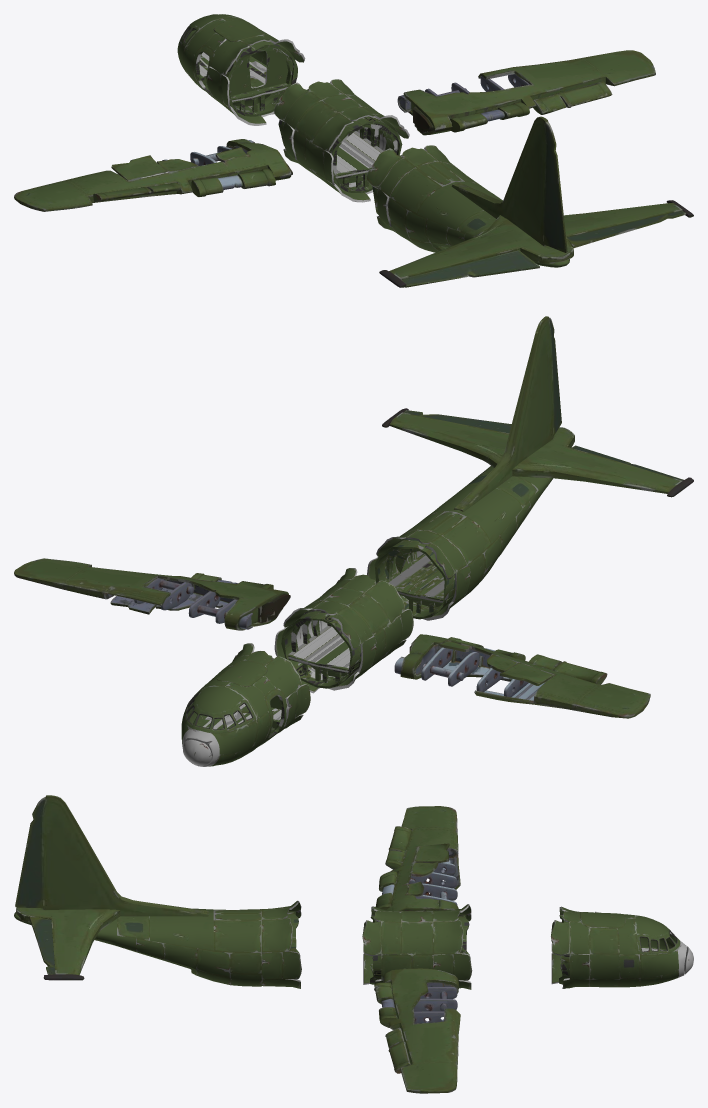
File: crashed_plane.glb
The picture shows the model from 3 angles, top to bottom: view 1: azimuth 30°, elevation 25°; view 2: azimuth 150°, elevation 25°; view 3: azimuth 270°, elevation 25°; orthographic projection. The views are drawn at different scales.
Parts seen in each view (by area): view 1: Object_7, Object_4, Object_5, Object_6; view 2: Object_7, Object_4, Object_5, Object_6; view 3: Object_7, Object_4, Object_6, Object_5.
Boxes of the visible parts, bbox=[...] form: Object_7: bbox=[366, 116, 693, 287]; Object_4: bbox=[14, 50, 655, 211]; Object_5: bbox=[274, 79, 409, 202]; Object_6: bbox=[177, 14, 305, 125]; Object_7: bbox=[367, 316, 693, 620]; Object_4: bbox=[14, 558, 650, 718]; Object_5: bbox=[274, 568, 413, 693]; Object_6: bbox=[181, 643, 310, 766]; Object_7: bbox=[14, 795, 301, 988]; Object_4: bbox=[374, 806, 460, 1093]; Object_6: bbox=[551, 906, 693, 988]; Object_5: bbox=[362, 904, 472, 989].
Bounding box in the file's own units: 138 × 43.99 × 143.
4 materials, 4 textured.
